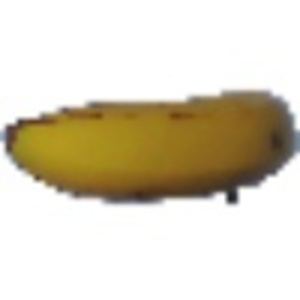banana: (3, 80, 297, 202)
